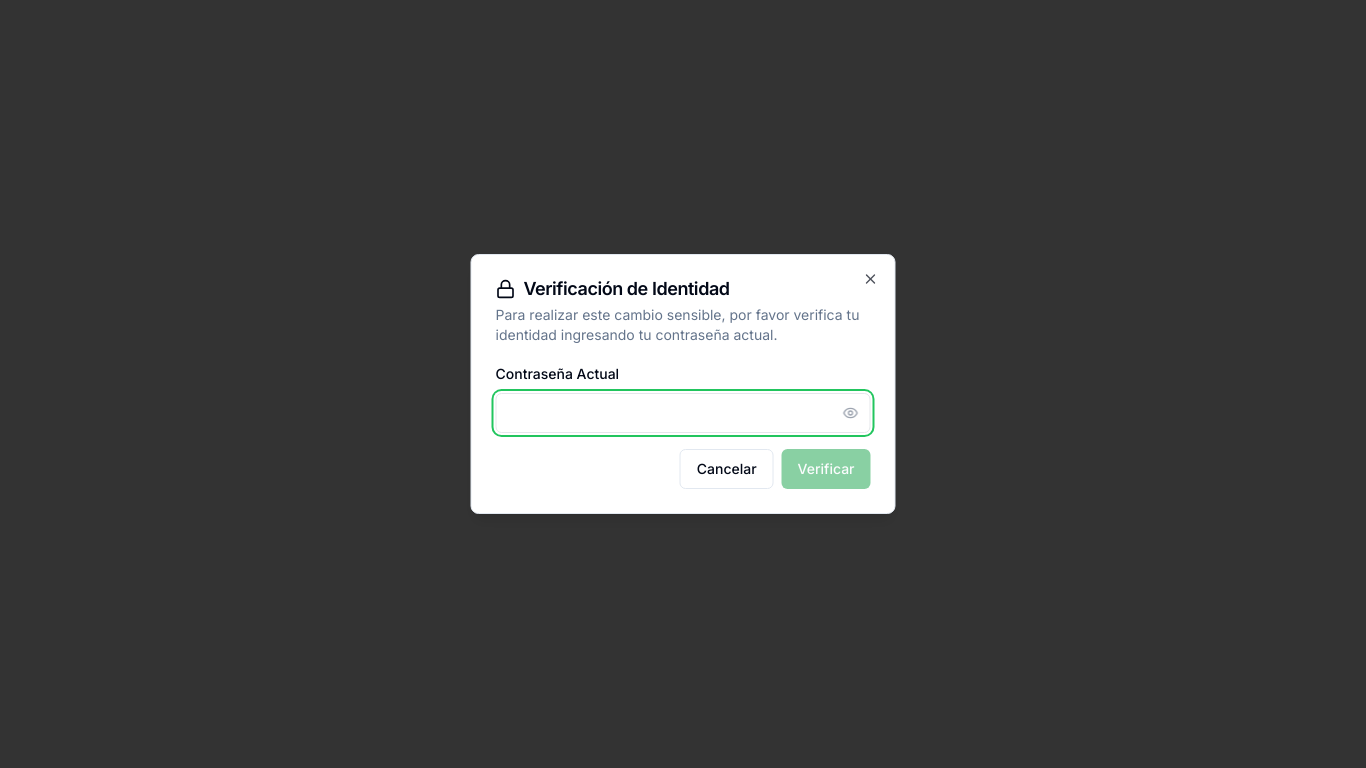
VerifyPasswordDialog › debe limpiar error al cambiar contraseña
This screenshot has width=1366, height=768.
Type "wrong" into the password field labelled "Contraseña Actual" at x=683, y=413, box x1=496 y1=393 x2=870 y2=433
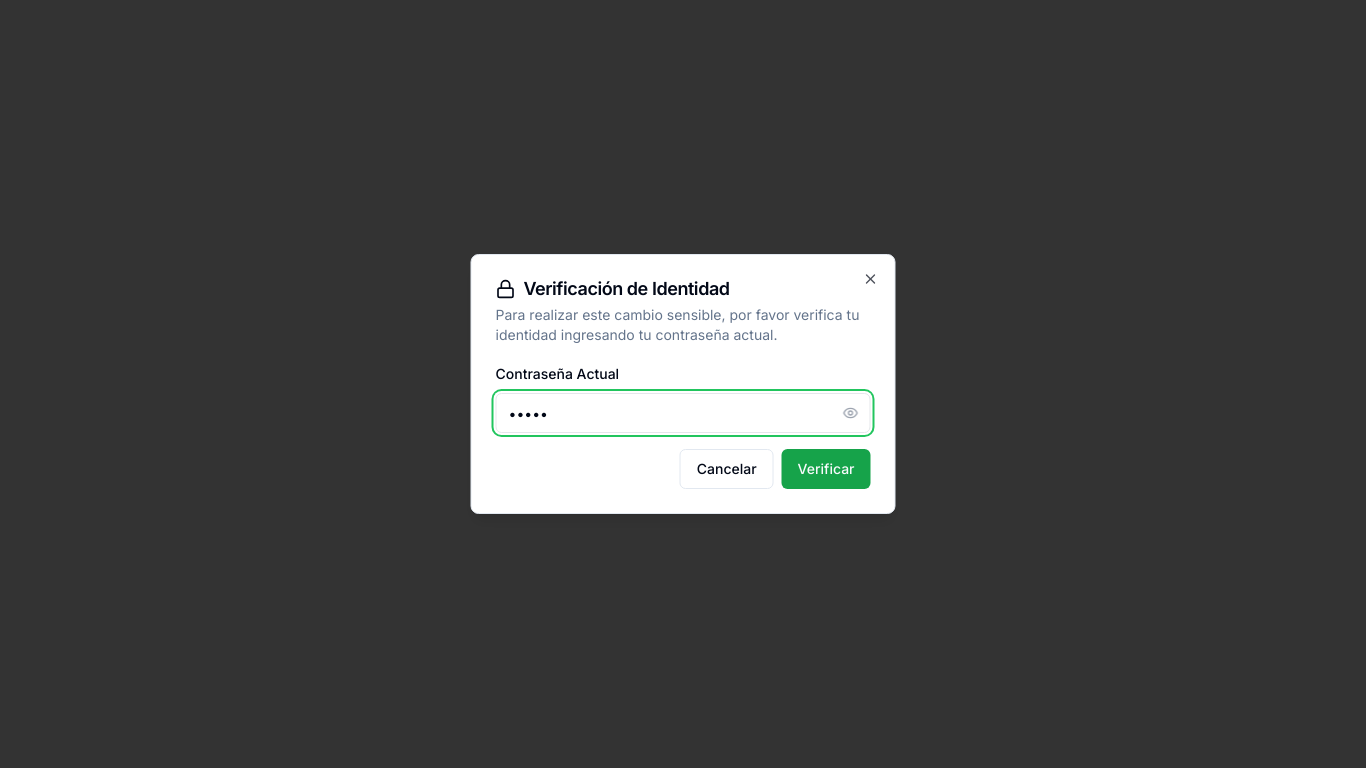
Click the button "Verificar" at x=826, y=469, box x1=782 y1=449 x2=870 y2=489
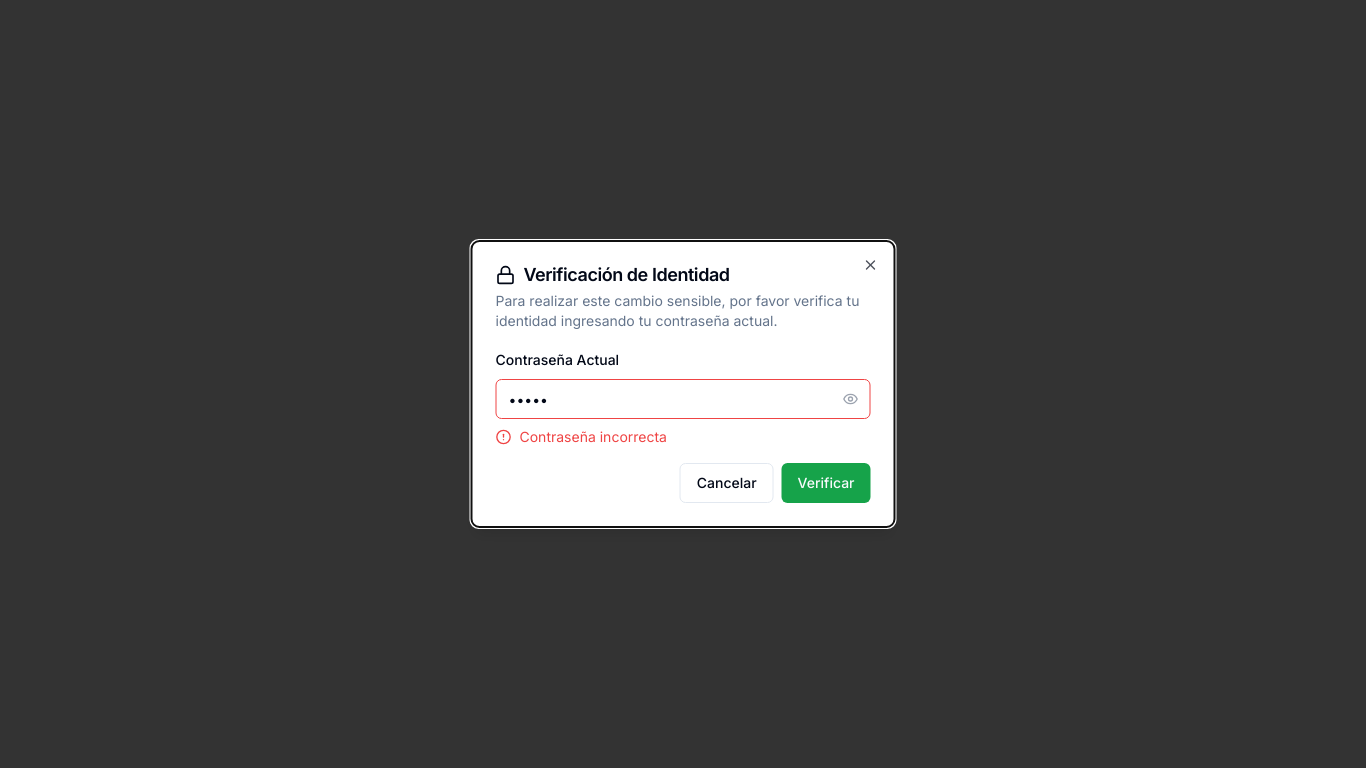
Result: the text "Contraseña incorrecta" is shown at x1=496 y1=428 x2=667 y2=445
Type "newInput" into the password field labelled "Contraseña Actual" at x=683, y=399, box x1=496 y1=379 x2=870 y2=419
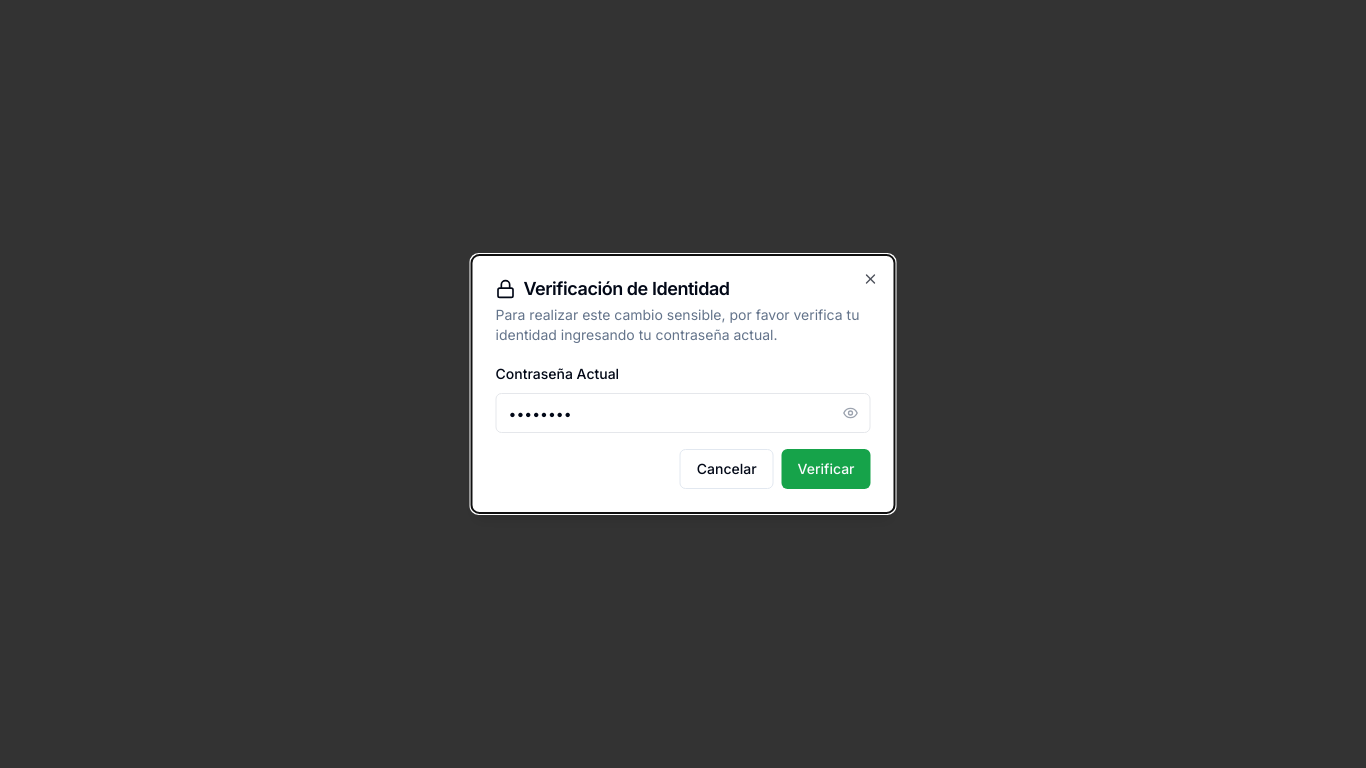
Result: the text "Contraseña incorrecta" is gone
